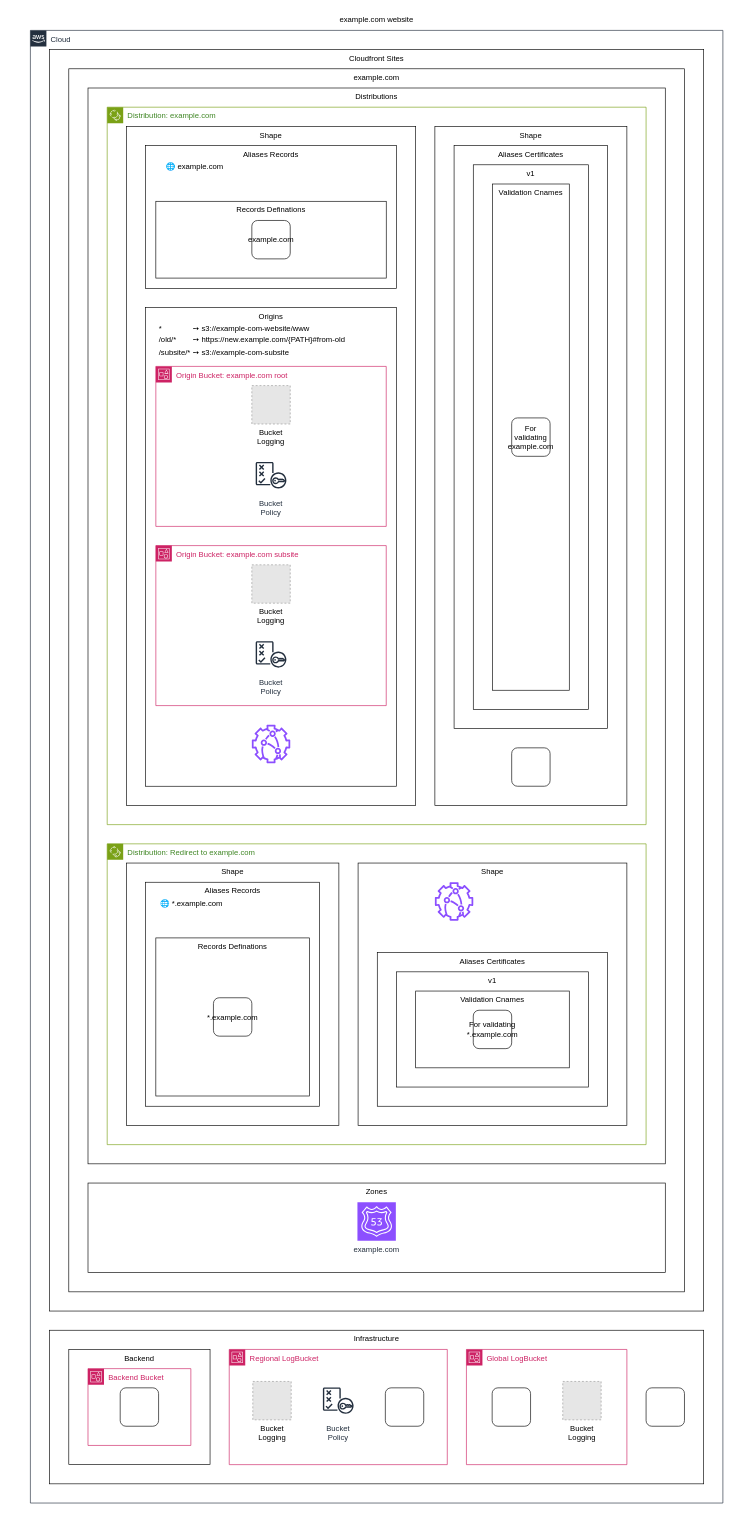
Some shapes in this 753 by 1533 pixel diagram are drawn without their labels. Grey dashed boxes stand in for pictures. Here are the shapes that lost their labels. From the top down, the centre of each, then its label:
At [271,743]: "Redirect Function".
At [530,766]: "Cloudfront Origin Access Control".
At [454,901]: "Host Redirect".
At [139,1406]: "Bucket Versioning".
At [404,1406]: "Caller Identity".
At [511,1406]: "Ownership Controls".
At [664,1406]: "Move To Here".
